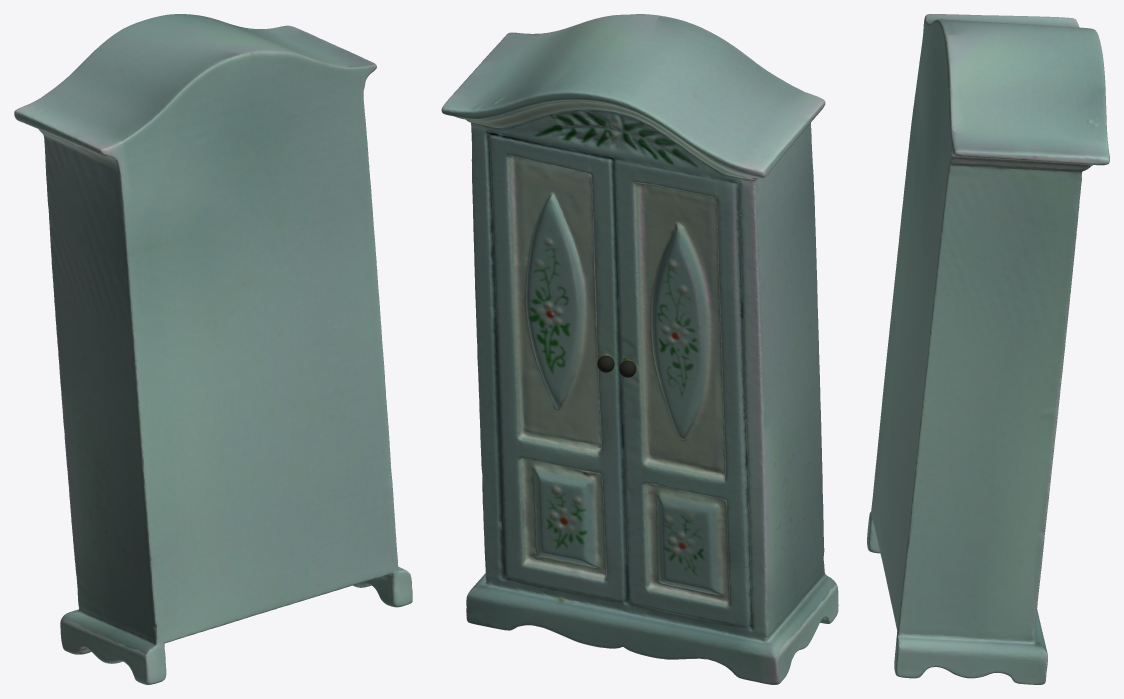
Rendered from wooden_wardrobe_-_armario_de_madera.glb.
The picture shows the model from 3 angles, left to right: view 1: azimuth 30°, elevation 25°; view 2: azimuth 150°, elevation 25°; view 3: azimuth 270°, elevation 25°; orthographic projection. The views are drawn at different scales.
Parts seen in each view (by area): view 1: Object_8, Object_7, Object_9, Object_6, Object_5, Object_10, Object_4, Object_12, Object_13, Object_11, Object_15, Object_14 (+1 smaller); view 2: Object_15, Object_14, Object_13, Object_4, Object_6, Object_12, Object_5, Object_10, Object_11, Object_7, Object_9, Object_8 (+1 smaller); view 3: Object_5, Object_6, Object_7, Object_10, Object_9, Object_8, Object_4, Object_12, Object_11, Object_13, Object_15, Object_14 (+1 smaller).
Part boxes in pixels (left/top/right/bottom): Object_8: left=15, top=14, right=390, bottom=684; Object_7: left=15, top=16, right=398, bottom=684; Object_9: left=14, top=18, right=400, bottom=684; Object_6: left=17, top=22, right=406, bottom=682; Object_5: left=19, top=23, right=404, bottom=678; Object_10: left=15, top=21, right=411, bottom=683; Object_4: left=19, top=22, right=411, bottom=673; Object_12: left=26, top=25, right=412, bottom=677; Object_13: left=30, top=26, right=412, bottom=669; Object_11: left=24, top=25, right=411, bottom=680; Object_15: left=33, top=28, right=410, bottom=671; Object_14: left=30, top=27, right=412, bottom=675; Object_15: left=471, top=47, right=830, bottom=658; Object_14: left=472, top=46, right=831, bottom=659; Object_13: left=470, top=43, right=828, bottom=676; Object_4: left=463, top=31, right=833, bottom=680; Object_6: left=460, top=14, right=836, bottom=652; Object_12: left=466, top=41, right=833, bottom=684; Object_5: left=462, top=18, right=834, bottom=674; Object_10: left=459, top=14, right=836, bottom=684; Object_11: left=466, top=40, right=833, bottom=684; Object_7: left=451, top=14, right=837, bottom=649; Object_9: left=455, top=17, right=836, bottom=646; Object_8: left=441, top=50, right=838, bottom=642; Object_5: left=877, top=14, right=1072, bottom=678; Object_6: left=875, top=14, right=1073, bottom=678; Object_7: left=870, top=14, right=1092, bottom=677; Object_10: left=879, top=14, right=1075, bottom=678; Object_9: left=872, top=14, right=1083, bottom=678; Object_8: left=867, top=14, right=1109, bottom=678; Object_4: left=884, top=15, right=1064, bottom=684; Object_12: left=887, top=16, right=1055, bottom=684; Object_11: left=885, top=15, right=1057, bottom=683; Object_13: left=888, top=16, right=1050, bottom=684; Object_15: left=891, top=16, right=1044, bottom=684; Object_14: left=889, top=16, right=1048, bottom=684.
Size of the model in its own units: 86.8 by 156 by 58.37.
Materials: 1 (1 with a texture image).
